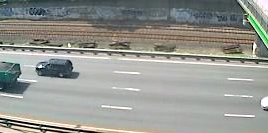car: (35, 57, 77, 81)
